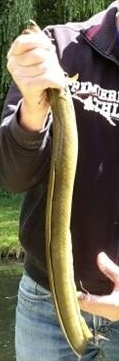Anguilla anguilla: (20, 20, 99, 357)
